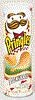grozi_36: (0, 0, 34, 100)
